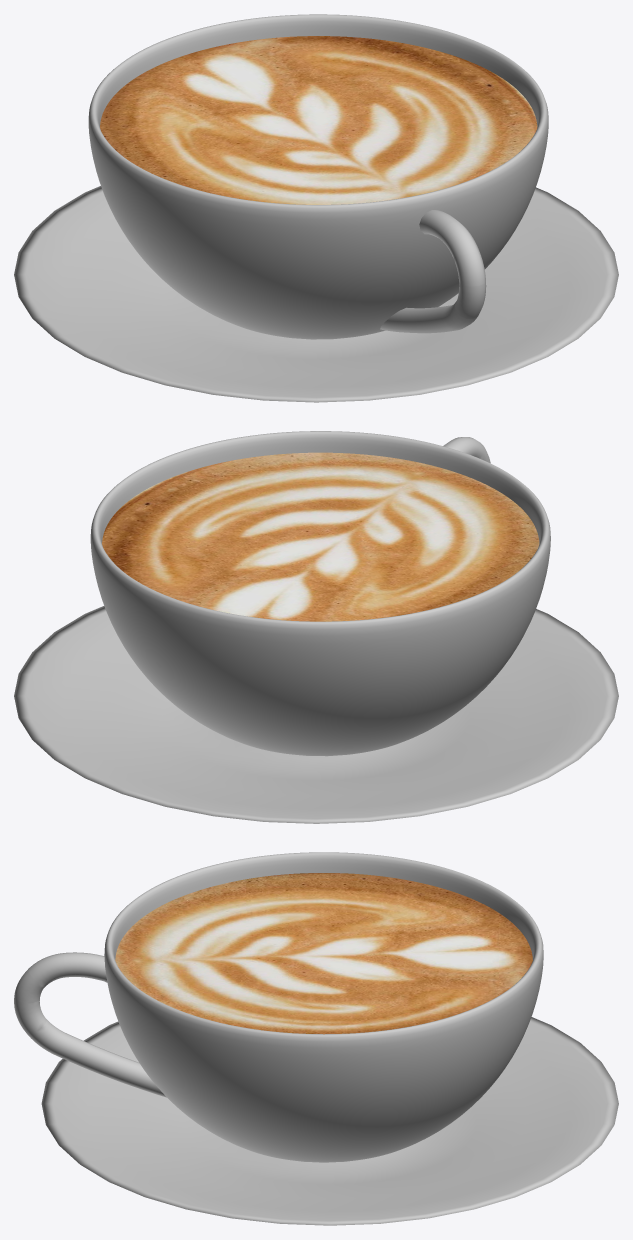
File: coffee.glb
3 renders of one model, top to bottom at view 1: azimuth 30°, elevation 25°; view 2: azimuth 150°, elevation 25°; view 3: azimuth 270°, elevation 25°, orthographic. The views are drawn at different scales.
Parts seen in each view (by area): view 1: Cylinder001_Material #30_0, Sphere001_Material #28_0, Object001_Material #26_0, Line001_Material #29_0; view 2: Cylinder001_Material #30_0, Sphere001_Material #28_0, Object001_Material #26_0, Line001_Material #29_0; view 3: Sphere001_Material #28_0, Cylinder001_Material #30_0, Object001_Material #26_0, Line001_Material #29_0.
Part boxes in pixels (left/top/right/bottom): Cylinder001_Material #30_0: left=14, top=186, right=618, bottom=402; Sphere001_Material #28_0: left=88, top=14, right=548, bottom=339; Object001_Material #26_0: left=100, top=36, right=537, bottom=204; Line001_Material #29_0: left=380, top=210, right=486, bottom=333; Cylinder001_Material #30_0: left=14, top=606, right=618, bottom=823; Sphere001_Material #28_0: left=90, top=431, right=550, bottom=756; Object001_Material #26_0: left=102, top=452, right=539, bottom=621; Line001_Material #29_0: left=443, top=437, right=490, bottom=463; Sphere001_Material #28_0: left=104, top=852, right=543, bottom=1162; Cylinder001_Material #30_0: left=41, top=1017, right=618, bottom=1225; Object001_Material #26_0: left=115, top=873, right=532, bottom=1034; Line001_Material #29_0: left=14, top=952, right=166, bottom=1097.
Bounding box in the file's own units: 105 × 37.99 × 110.
4 materials, 1 textured.
